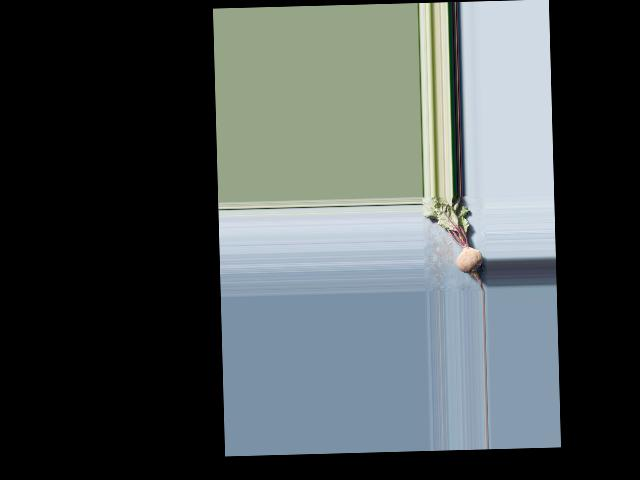beet: (422, 194, 484, 292)
